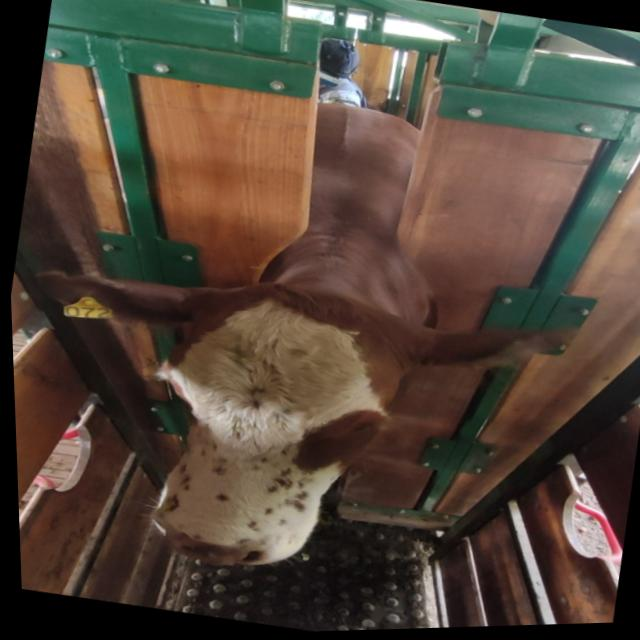cowFace: (125, 267, 412, 591)
